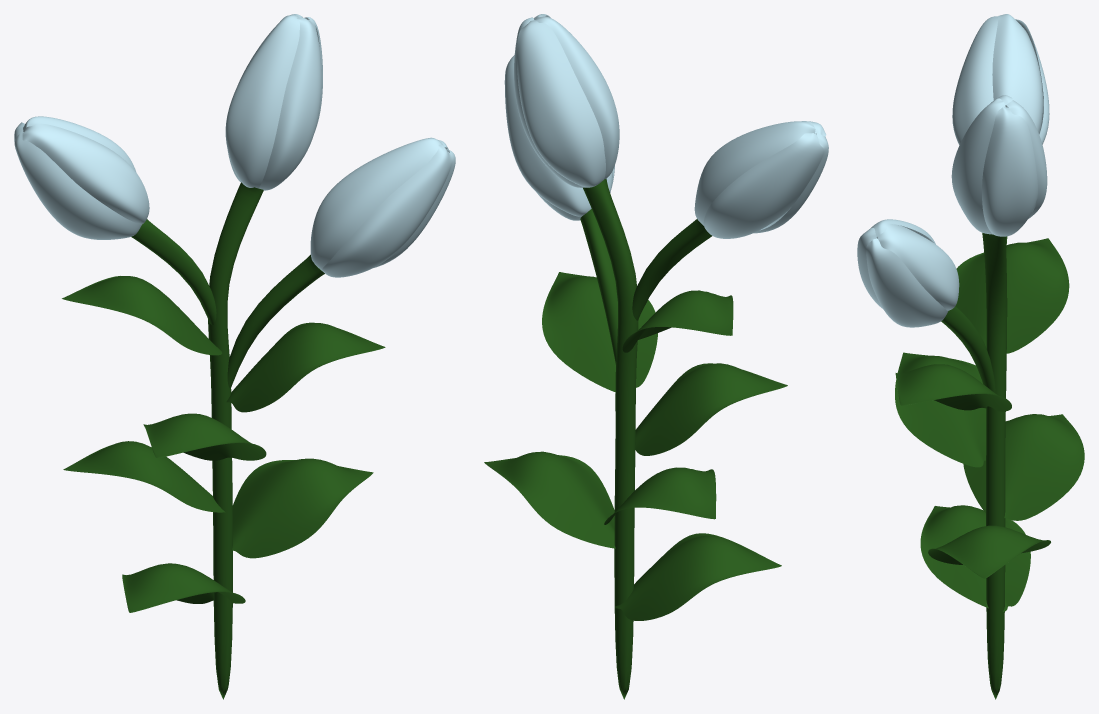
The model's file is Lirio3C-CORTADO.fbx.
3 views of the same model, side by side, from view 1: azimuth 30°, elevation 25°; view 2: azimuth 150°, elevation 25°; view 3: azimuth 270°, elevation 25° (orthographic). The views are drawn at different scales.
Parts seen in each view (by area): view 1: Leaf, Stem, Petal.003, Petal.011, Petal.010, Leaf.004, Petal.007, Petal.002, Petal.006, Leaf.005, Leaf.002, Leaf.001 (+5 smaller); view 2: Stem, Petal.004, Leaf.004, Leaf, Leaf.003, Petal.005, Leaf.001, Petal.008, Leaf.002, Petal.012, Leaf.005, Petal.003 (+4 smaller); view 3: Stem, Leaf.002, Leaf.005, Petal.001, Leaf.001, Leaf.003, Petal.009, Petal.008, Leaf.004, Leaf, Petal.012, Petal.002 (+6 smaller).
Part boxes in pixels (left/top/right/bottom): Leaf: left=232, top=458, right=373, bottom=558; Stem: left=208, top=182, right=263, bottom=699; Petal.003: left=225, top=15, right=299, bottom=188; Petal.011: left=310, top=137, right=443, bottom=270; Petal.010: left=322, top=144, right=451, bottom=277; Leaf.004: left=226, top=322, right=385, bottom=412; Petal.007: left=22, top=123, right=149, bottom=224; Petal.002: left=259, top=16, right=321, bottom=190; Petal.006: left=14, top=132, right=141, bottom=239; Leaf.005: left=62, top=276, right=222, bottom=355; Leaf.002: left=63, top=441, right=225, bottom=512; Leaf.001: left=143, top=413, right=266, bottom=460; Stem: left=583, top=179, right=638, bottom=699; Petal.004: left=516, top=20, right=605, bottom=187; Leaf.004: left=542, top=272, right=657, bottom=392; Leaf: left=484, top=451, right=615, bottom=548; Leaf.003: left=615, top=533, right=781, bottom=620; Petal.005: left=703, top=133, right=823, bottom=238; Leaf.001: left=635, top=363, right=787, bottom=455; Petal.008: left=694, top=121, right=815, bottom=225; Leaf.002: left=604, top=467, right=716, bottom=524; Petal.012: left=504, top=55, right=591, bottom=216; Leaf.005: left=622, top=290, right=733, bottom=352; Petal.003: left=536, top=16, right=619, bottom=179; Stem: left=982, top=233, right=1007, bottom=699; Leaf.002: left=963, top=414, right=1084, bottom=520; Leaf.005: left=955, top=238, right=1069, bottom=353; Petal.001: left=982, top=106, right=1037, bottom=236; Leaf.001: left=895, top=352, right=986, bottom=467; Leaf.003: left=920, top=505, right=1030, bottom=611; Petal.009: left=866, top=238, right=948, bottom=327; Petal.008: left=992, top=14, right=1043, bottom=134; Leaf.004: left=895, top=364, right=1011, bottom=411; Leaf: left=928, top=525, right=1050, bottom=578; Petal.012: left=877, top=224, right=959, bottom=310; Petal.002: left=951, top=98, right=1005, bottom=234.
Size of the model in its own units: 339 by 574 by 185.
